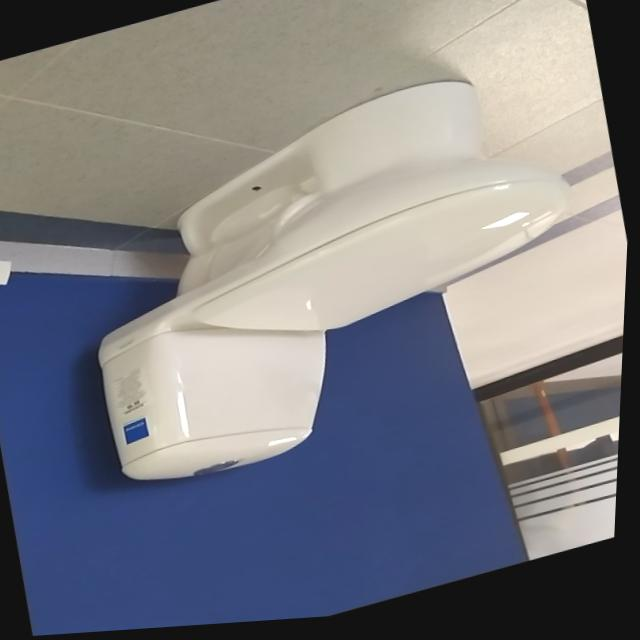toilet: (58, 52, 618, 506)
